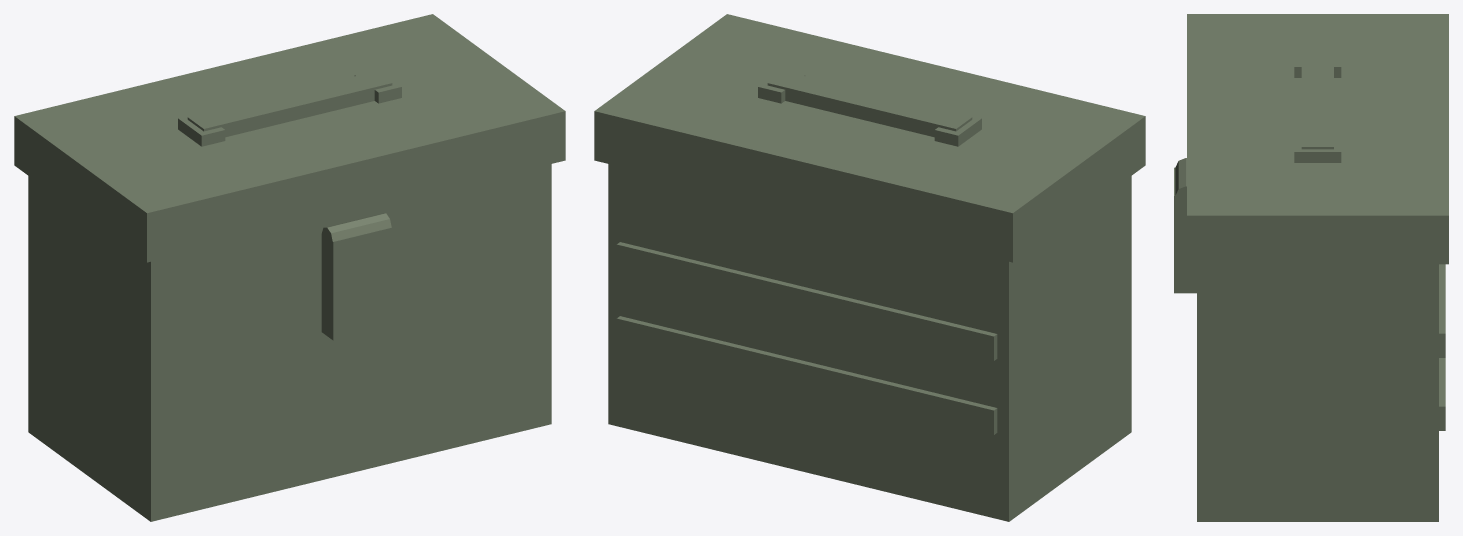
The model's file is AmmoBox_Custom.fbx.
3 views of the same model, side by side, from view 1: azimuth 30°, elevation 25°; view 2: azimuth 150°, elevation 25°; view 3: azimuth 270°, elevation 25° (orthographic).
Visible parts, largest first — view 1: AmmoBox_Custom; view 2: AmmoBox_Custom; view 3: AmmoBox_Custom.
Part boxes in pixels (box(x1,y1,x2,y2)): AmmoBox_Custom: box(14, 14, 565, 521); AmmoBox_Custom: box(594, 14, 1145, 521); AmmoBox_Custom: box(1174, 14, 1448, 521).
Size of the model in its own units: 0.355 by 0.266 by 0.2045.
